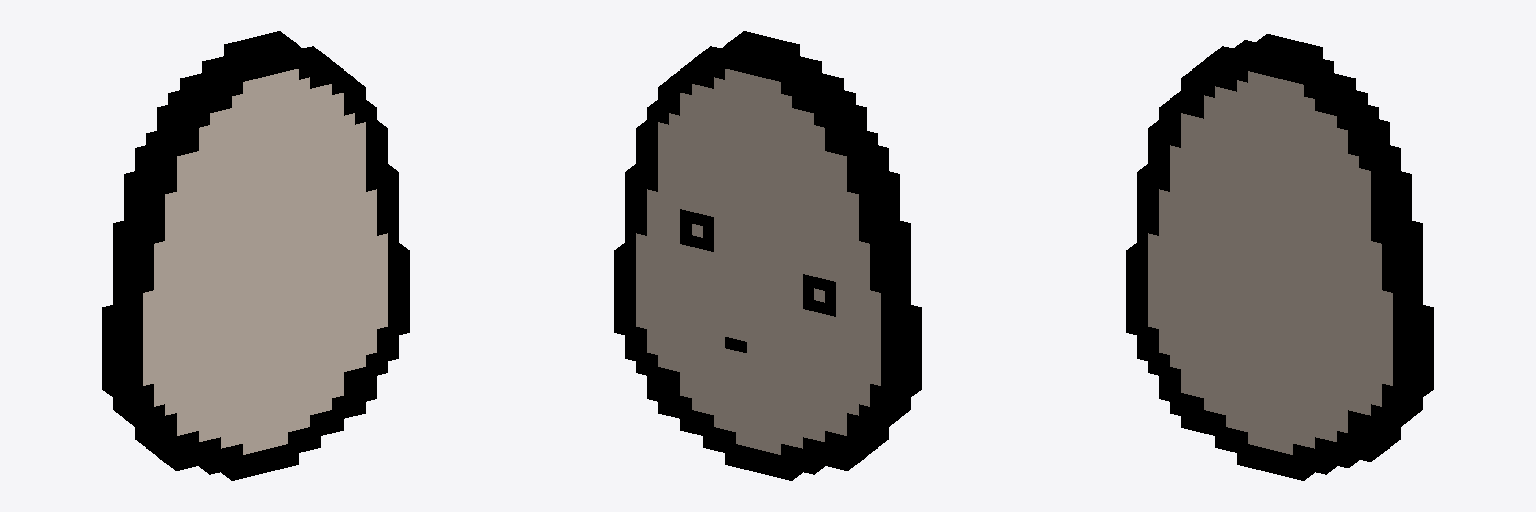
3 renders of one model, left to right at view 1: azimuth 30°, elevation 25°; view 2: azimuth 150°, elevation 25°; view 3: azimuth 330°, elevation 25°, orthographic.
Parts seen in each view (by area): view 1: ㅇㅂㅇ; view 2: ㅇㅂㅇ; view 3: ㅇㅂㅇ.
Part boxes in pixels (left/top/right/bottom): ㅇㅂㅇ: left=102, top=31, right=409, bottom=480; ㅇㅂㅇ: left=614, top=31, right=921, bottom=480; ㅇㅂㅇ: left=1126, top=34, right=1433, bottom=480.
Bounding box in the file's own units: 2.6 × 3.6 × 0.3.
Materials: 1 (1 with a texture image).